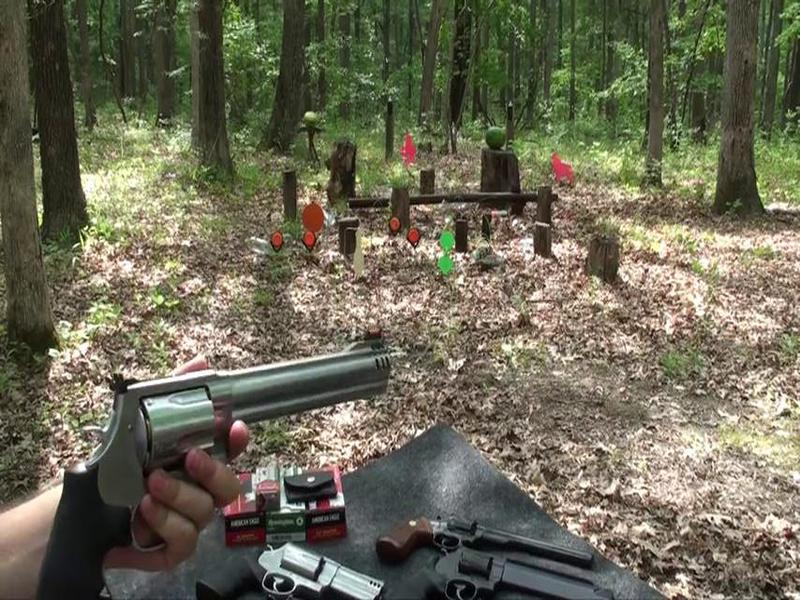Revolver: (18, 339, 384, 600)
